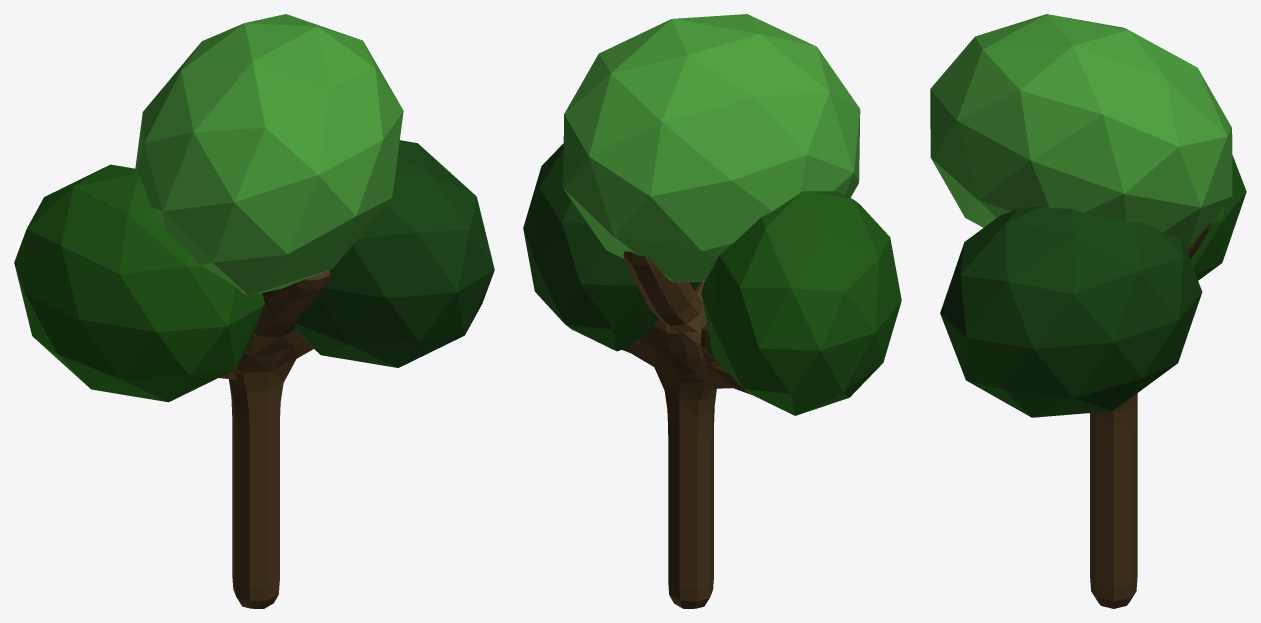
File: Tree_Oak1.fbx
The picture shows the model from 3 angles, left to right: view 1: azimuth 30°, elevation 25°; view 2: azimuth 150°, elevation 25°; view 3: azimuth 270°, elevation 25°; orthographic projection. The views are drawn at different scales.
Parts seen in each view (by area): view 1: Plane; view 2: Plane; view 3: Plane.
Boxes of the visible parts, left/top/right/bottom form: Plane: left=14, top=14, right=494, bottom=608; Plane: left=523, top=14, right=901, bottom=608; Plane: left=930, top=14, right=1246, bottom=608.
Bounding box in the file's own units: 441 × 619 × 306.
